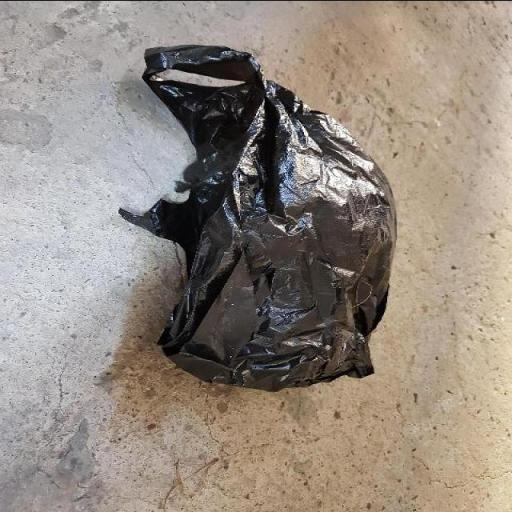plastic-bag: (115, 41, 402, 393)
